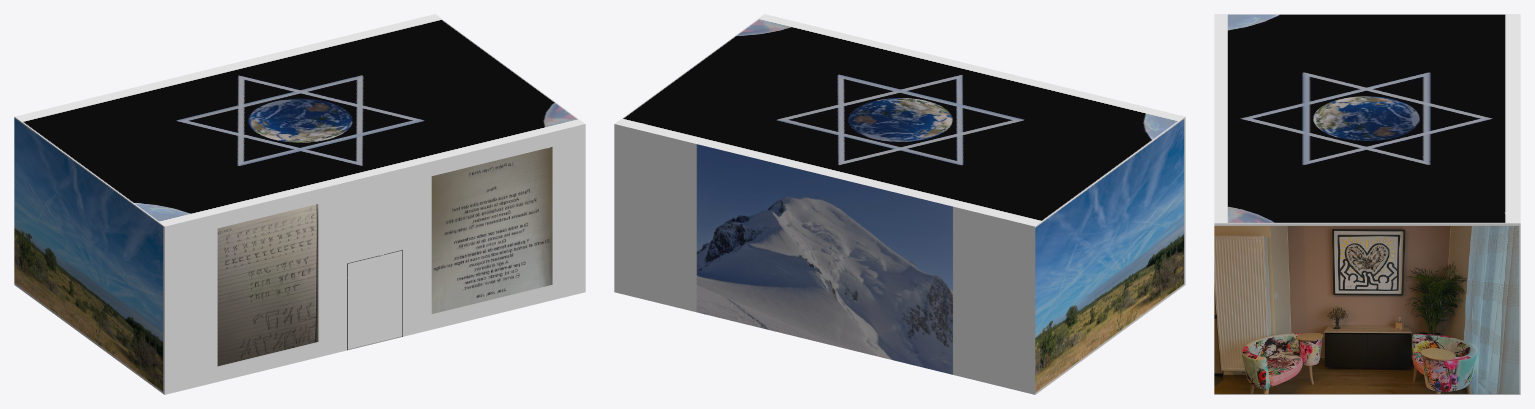
The model's file is 1778696857278_pealoun.glb.
3 views of the same model, side by side, from view 1: azimuth 30°, elevation 25°; view 2: azimuth 150°, elevation 25°; view 3: azimuth 270°, elevation 25° (orthographic).
Visible parts, largest first — view 1: Pealoun; view 2: Pealoun; view 3: Pealoun.
Boxes of the visible parts, x1,y1,x2,y2 form: Pealoun: (14, 14, 585, 394); Pealoun: (614, 14, 1185, 394); Pealoun: (1214, 14, 1520, 394).
Bounding box in the file's own units: 1.62 × 0.618 × 1.
Materials: 6 (6 with a texture image).
